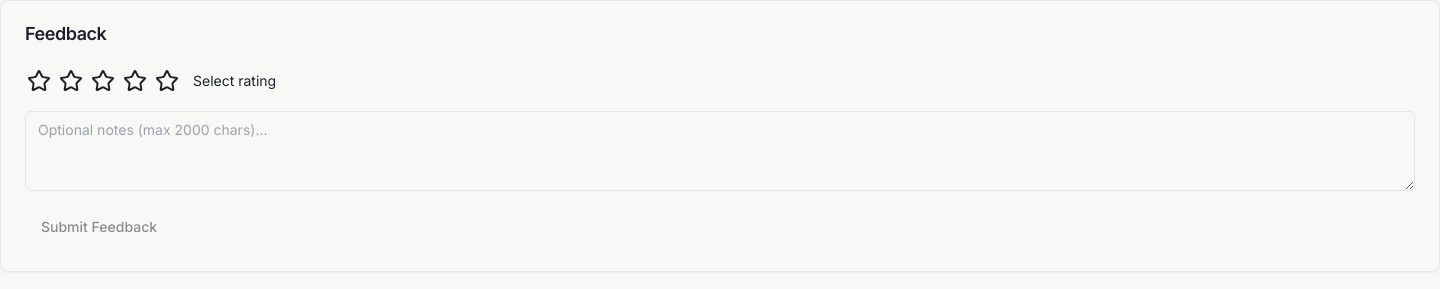
Test: FeedbackForm › shows rating after selection
Click the 5th button at (167, 81), box [153,67,181,95]
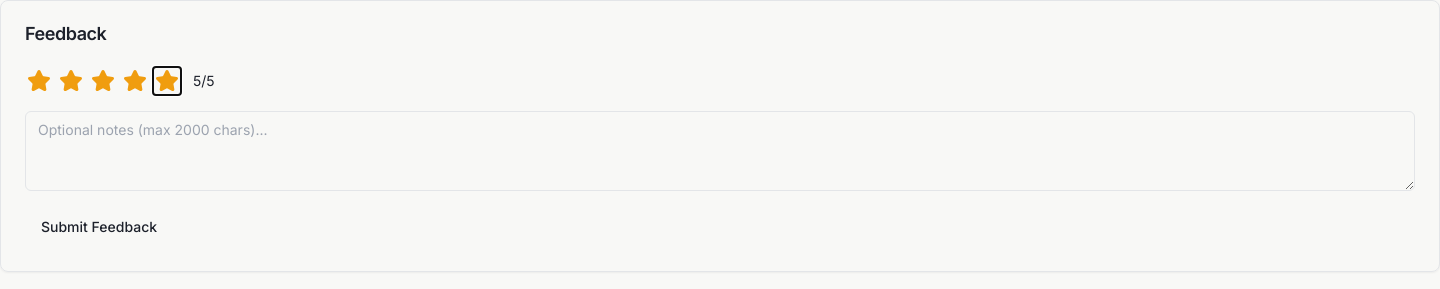
Now the text "5/5" is shown, box [193,71,215,91]
